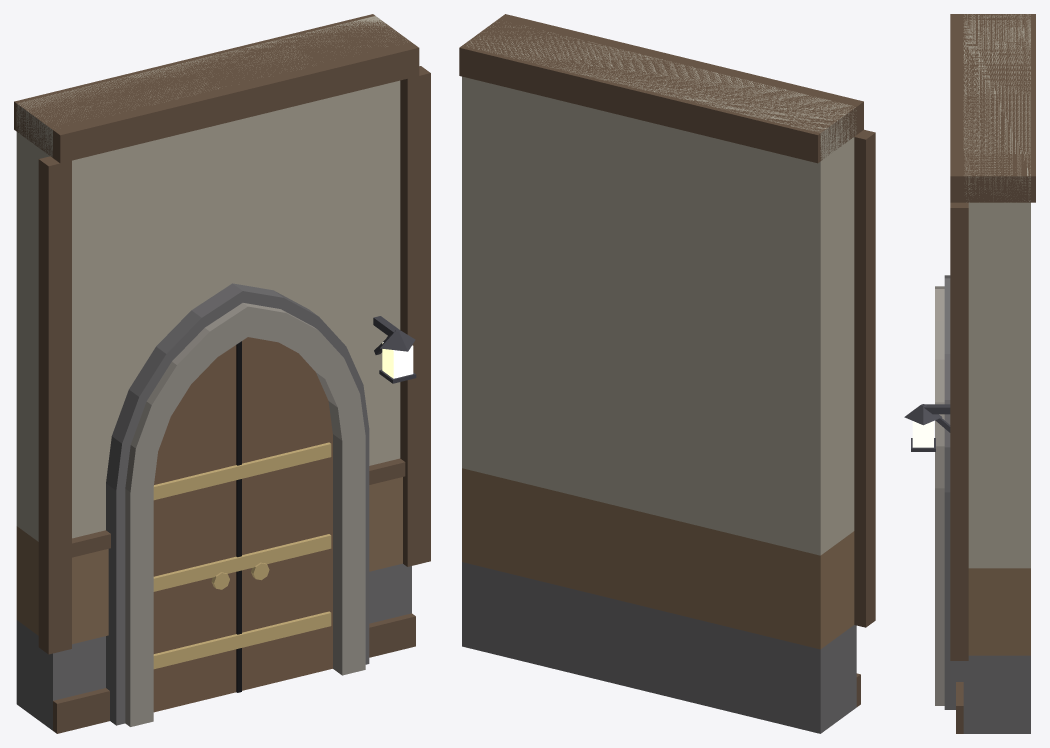
The model's file is hall_door.glb.
The picture shows the model from 3 angles, left to right: view 1: azimuth 30°, elevation 25°; view 2: azimuth 150°, elevation 25°; view 3: azimuth 270°, elevation 25°; orthographic projection. The views are drawn at different scales.
Visible parts, largest first — view 1: Upper, Plinth; view 2: Upper, Plinth; view 3: Upper, Plinth.
Boxes of the visible parts, x1=… form: Upper: x1=14, y1=14, x2=430, y2=726; Plinth: x1=16, y1=563, x2=415, y2=733; Upper: x1=459, y1=14, x2=875, y2=649; Plinth: x1=462, y1=562, x2=860, y2=733; Upper: x1=904, y1=14, x2=1035, y2=709; Plinth: x1=956, y1=655, x2=1030, y2=733.
Size of the model in its own units: 4.26 by 6.4 by 1.37.
